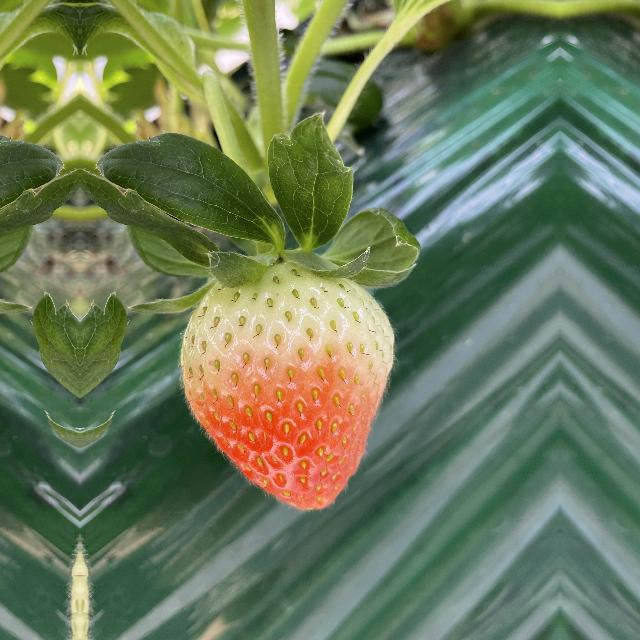Health_75: (176, 260, 408, 520)
